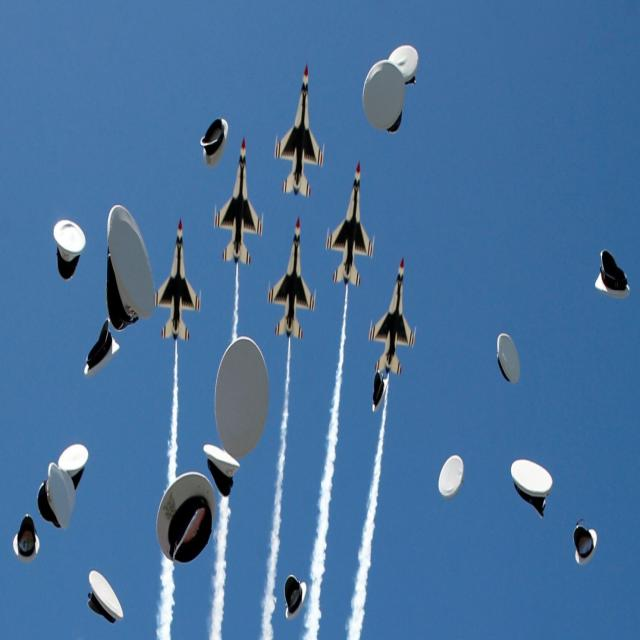MIL_Plane: (274, 59, 325, 198), (213, 133, 264, 265), (325, 158, 375, 288), (267, 215, 317, 340), (154, 214, 202, 342), (368, 254, 416, 376)
